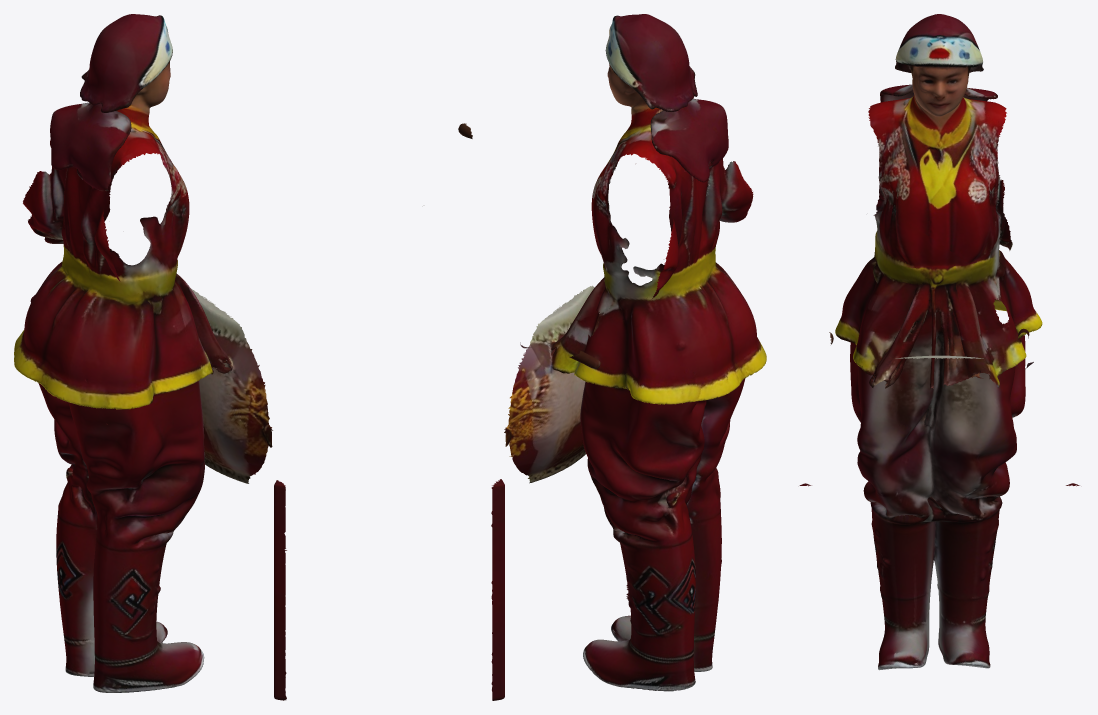
The model's file is taiko_cuerpo.glb.
3 renders of one model, left to right at view 1: azimuth 30°, elevation 25°; view 2: azimuth 150°, elevation 25°; view 3: azimuth 270°, elevation 25°, orthographic.
Parts seen in each view (by area): view 1: cuerpo; view 2: cuerpo; view 3: cuerpo.
Boxes of the visible parts, bbox=[...] form: cuerpo: bbox=[14, 14, 286, 700]; cuerpo: bbox=[458, 14, 766, 700]; cuerpo: bbox=[799, 14, 1079, 670].
Size of the model in its own units: 0.5475 by 0.9992 by 0.4035.
1 material, 1 textured.
